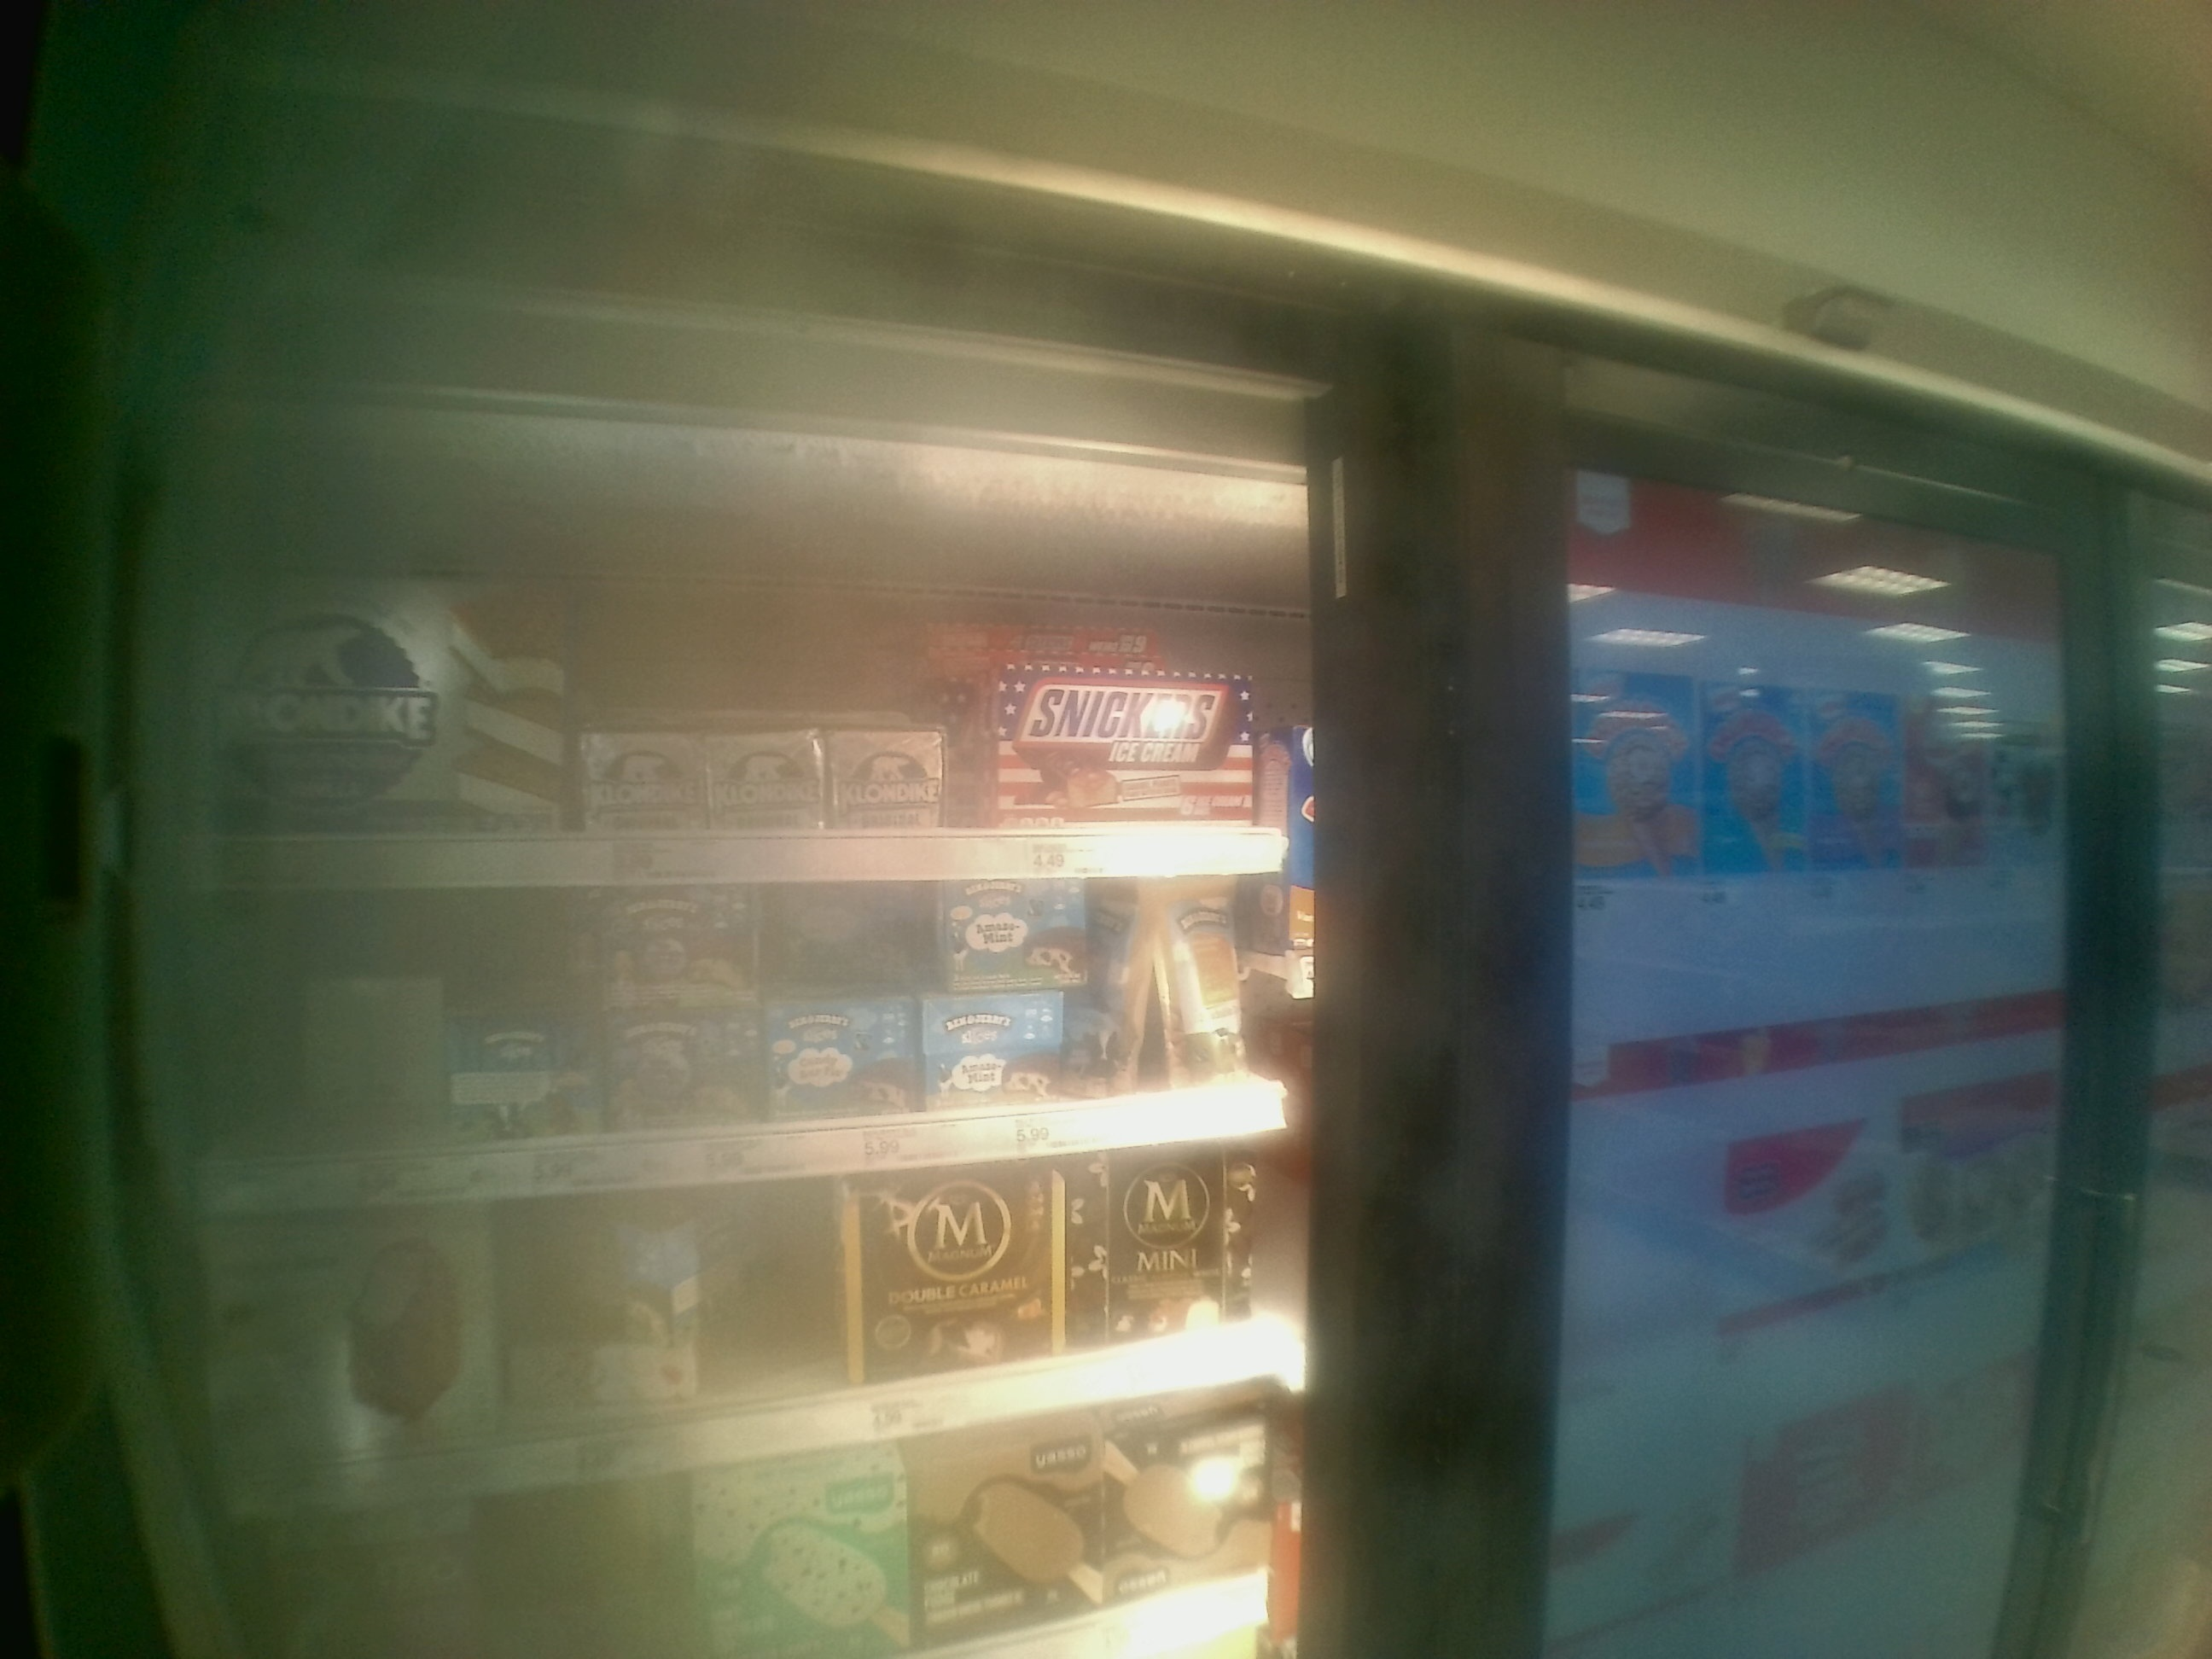ice-cream-shelf: (160, 507, 1308, 882), (164, 878, 1320, 1201)
